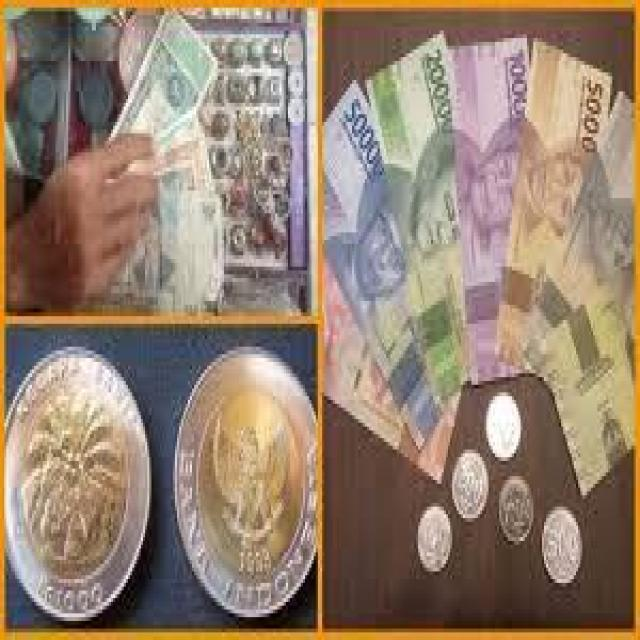500-silver: (540, 499, 586, 592)
